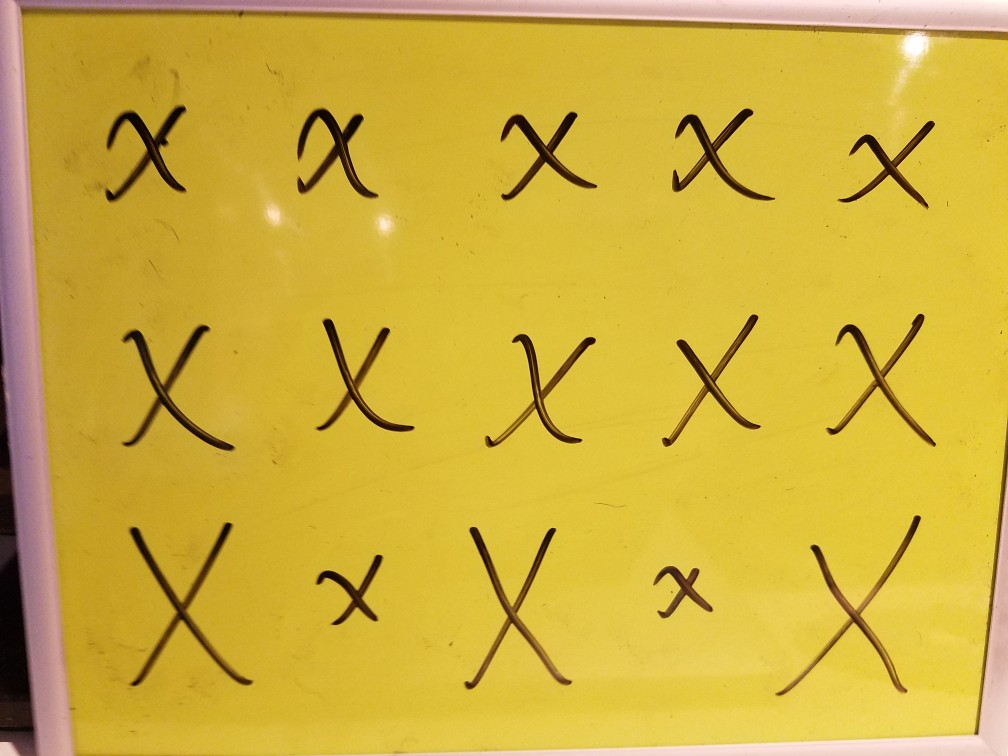x: (769, 492, 932, 706), (439, 499, 592, 703), (113, 503, 257, 709), (652, 304, 773, 462), (813, 299, 936, 450), (103, 321, 222, 451), (491, 324, 604, 457), (307, 311, 410, 445), (834, 104, 942, 222), (287, 101, 392, 209), (100, 89, 189, 213), (670, 99, 766, 204), (303, 528, 395, 635), (500, 107, 594, 210), (640, 548, 728, 632)
